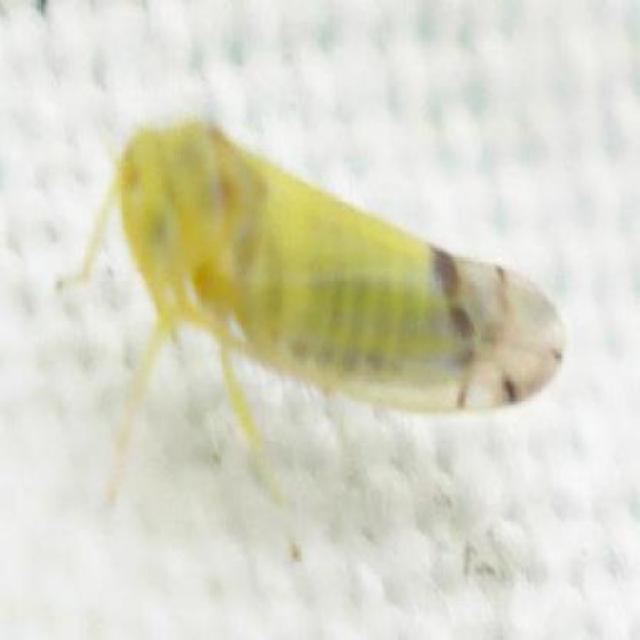green-leafhopper: (113, 124, 556, 468)
